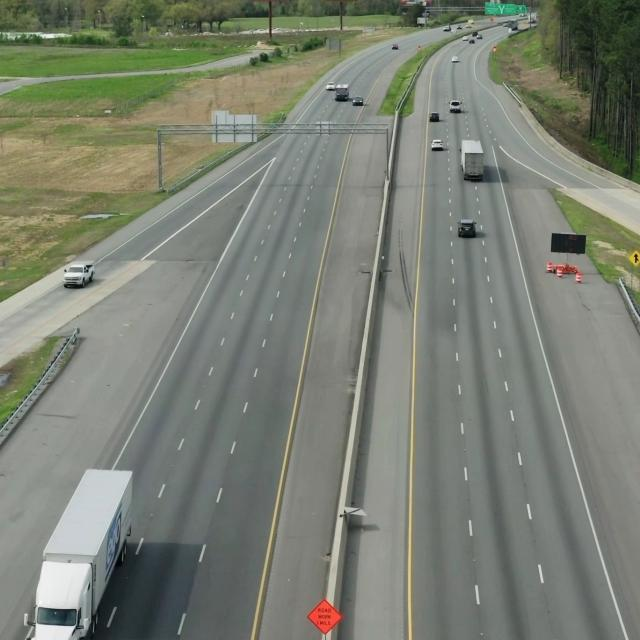Car: (20, 464, 145, 640), (462, 139, 491, 182), (62, 260, 100, 290), (457, 216, 479, 242), (432, 139, 446, 152)
